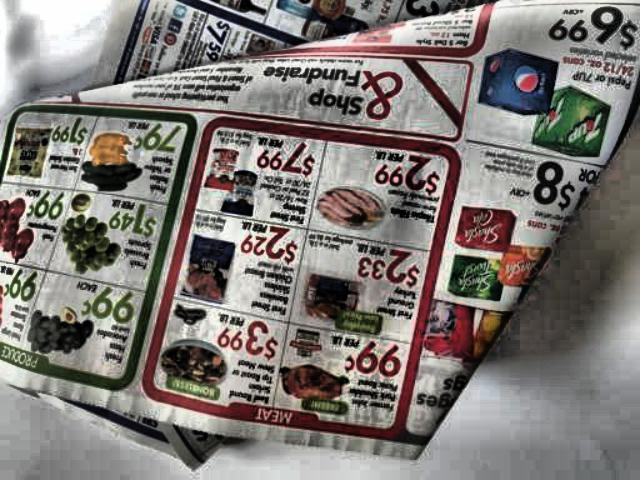Paper: (0, 0, 640, 478)
